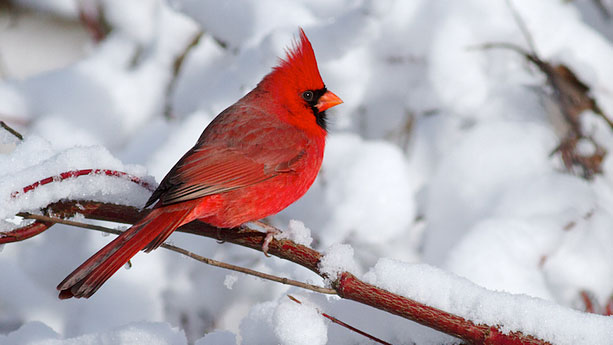bird: (116, 48, 327, 262)
